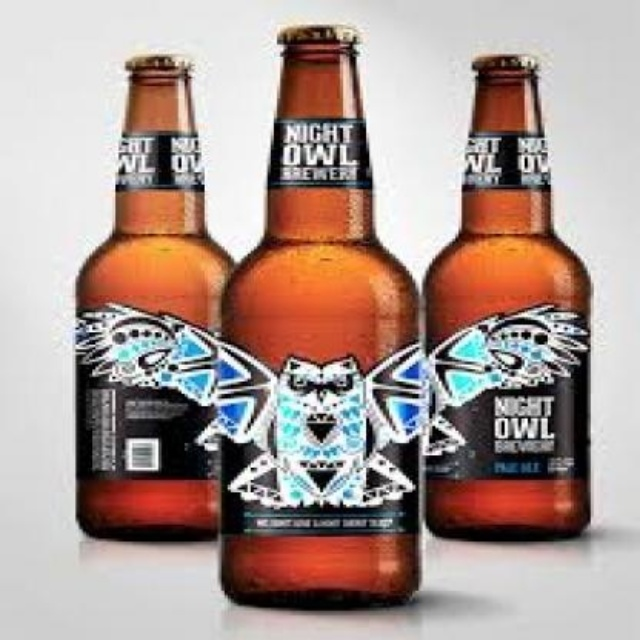trash: (222, 26, 426, 603), (425, 55, 589, 537), (77, 55, 231, 537)
